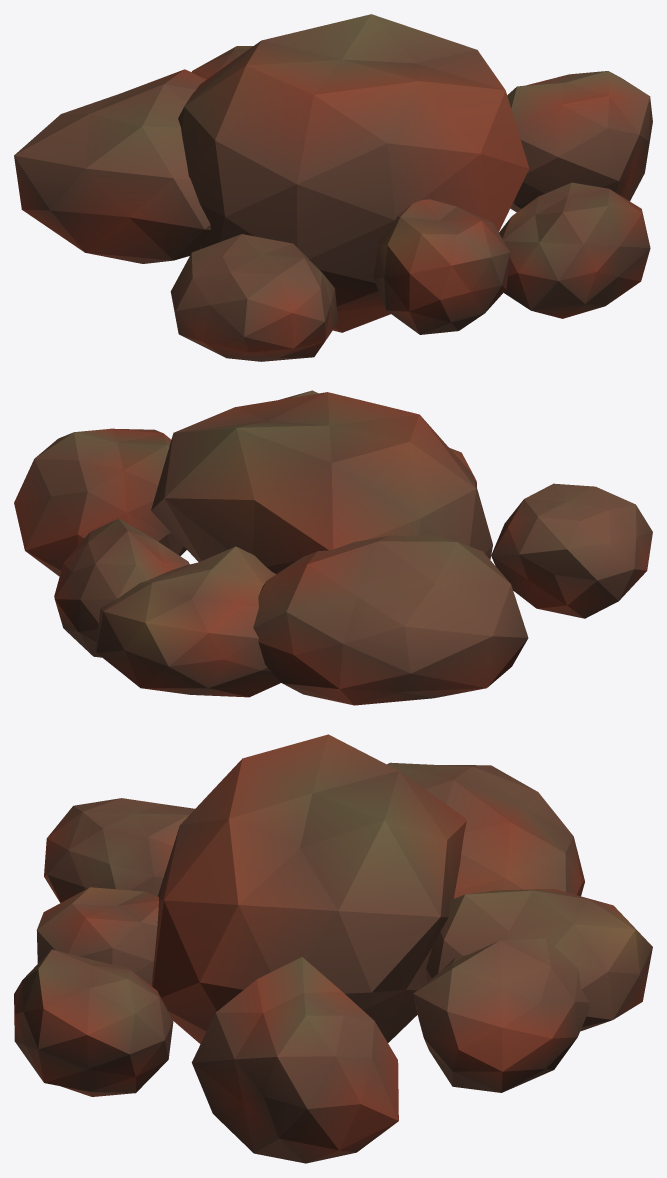
File: deposit_ore.glb
3 views of the same model, one above another, from view 1: azimuth 30°, elevation 25°; view 2: azimuth 150°, elevation 25°; view 3: azimuth 270°, elevation 25° (orthographic). The views are drawn at different scales.
Visible parts, largest first — view 1: part_0; view 2: part_0; view 3: part_0.
Part boxes in pixels (x1,y1,x2,y2): part_0: (14,14,652,361); part_0: (14,390,652,705); part_0: (14,734,652,1163).
Size of the model in its own units: 4.89 by 2.39 by 4.42.
